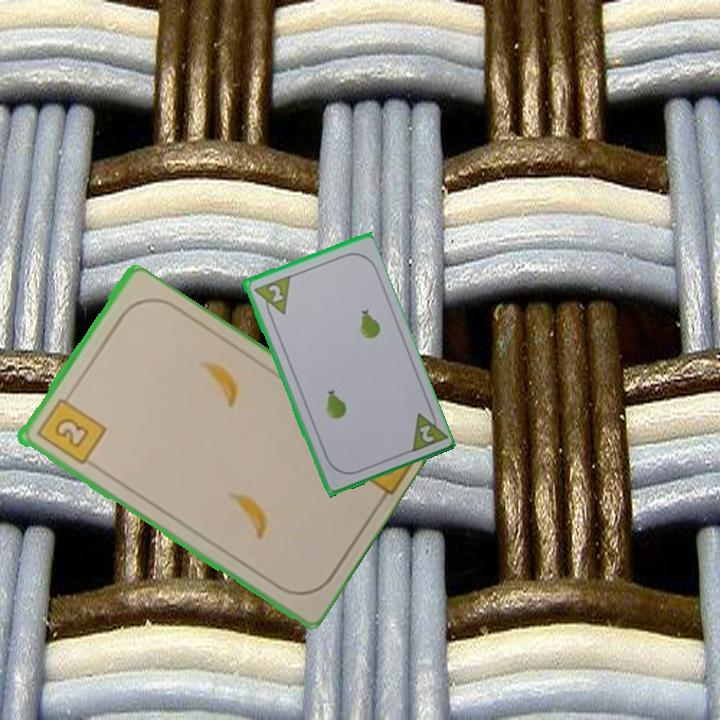2b: (32, 388, 108, 468)
2p: (405, 403, 448, 456), (250, 272, 293, 322)
